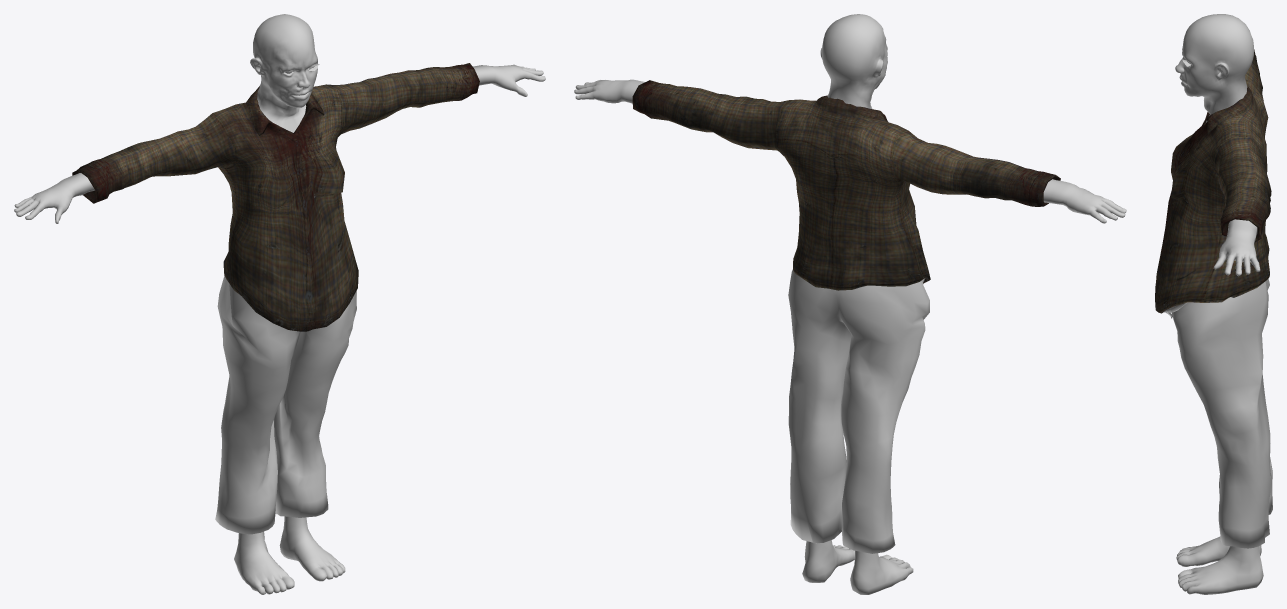
Rendered from Female_z1.obj.
The picture shows the model from 3 angles, left to right: view 1: azimuth 30°, elevation 25°; view 2: azimuth 150°, elevation 25°; view 3: azimuth 270°, elevation 25°; orthographic projection.
Visible parts, largest first — view 1: Tops, Bottoms, Body; view 2: Tops, Bottoms, Body; view 3: Tops, Bottoms, Body.
Boxes of the visible parts, x1,y1,x2,y2 form: Tops: (72, 63, 479, 331); Bottoms: (215, 276, 356, 534); Body: (14, 14, 545, 594); Tops: (632, 80, 1060, 290); Bottoms: (788, 269, 929, 553); Body: (574, 14, 1126, 594); Tops: (1155, 49, 1271, 313); Bottoms: (1164, 278, 1272, 548); Body: (1175, 14, 1263, 594).
Bounding box in the file's own units: 179 × 177 × 34.
